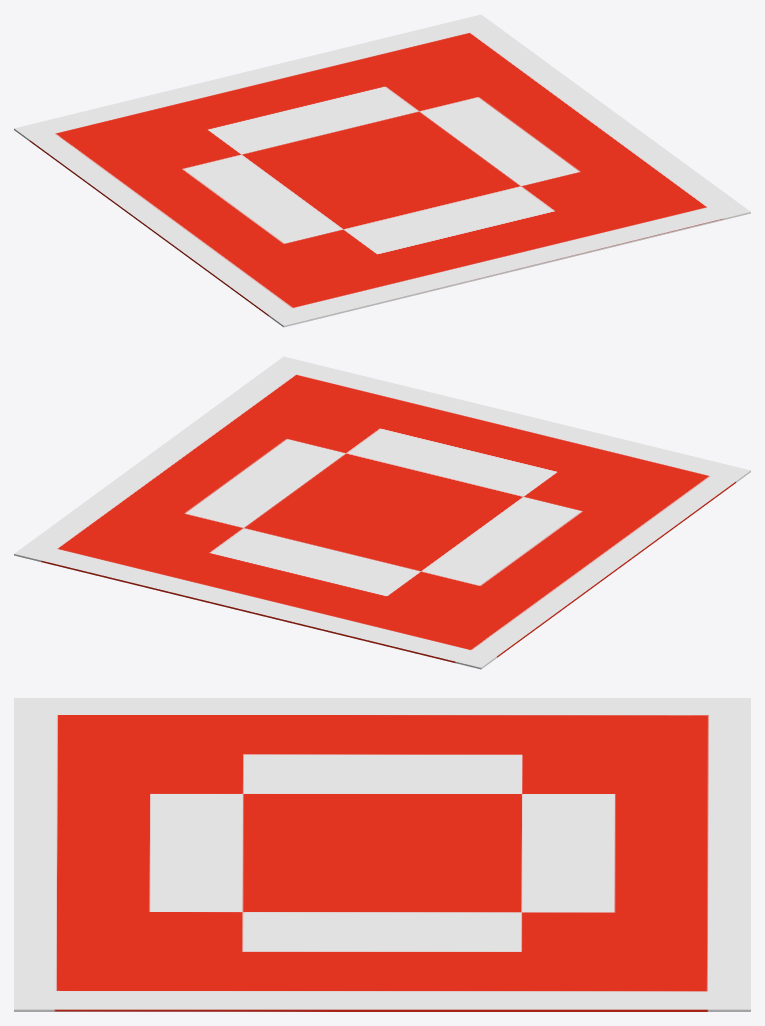
Rendered from tagO.dae.
3 renders of one model, top to bottom at view 1: azimuth 30°, elevation 25°; view 2: azimuth 150°, elevation 25°; view 3: azimuth 270°, elevation 25°, orthographic. The views are drawn at different scales.
Parts seen in each view (by area): view 1: 立方体; view 2: 立方体; view 3: 立方体.
Part boxes in pixels (box(x1,y1,x2,y2)): 立方体: box(14, 14, 750, 327); 立方体: box(14, 356, 750, 669); 立方体: box(14, 698, 750, 1011).
Size of the model in its own units: 0.15 by 0.15 by 0.0005.
1 material, 1 textured.
